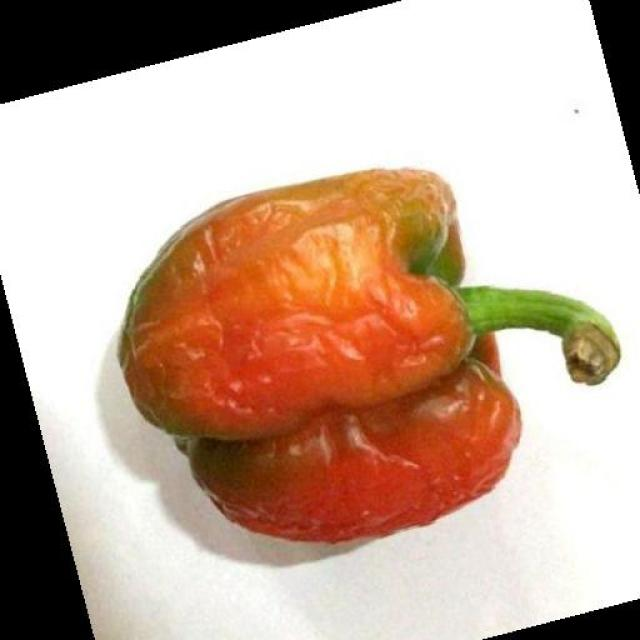Stale_Capsicum: (120, 140, 618, 572)
